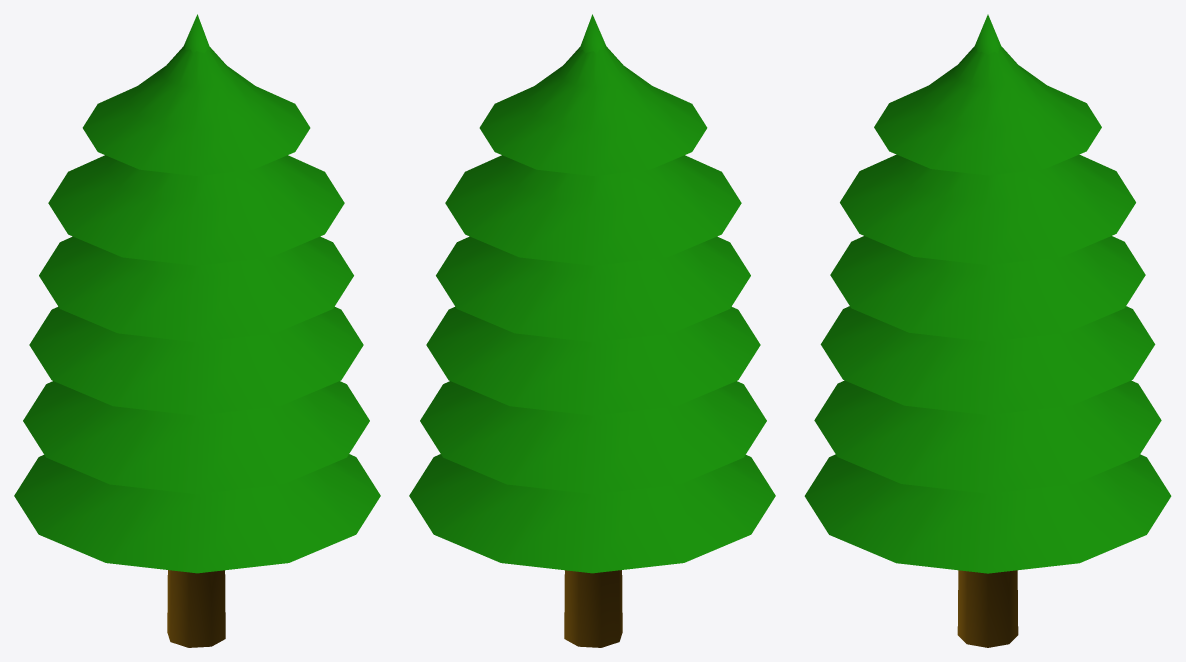
Rendered from Tree.obj.
The picture shows the model from 3 angles, left to right: view 1: azimuth 30°, elevation 25°; view 2: azimuth 150°, elevation 25°; view 3: azimuth 270°, elevation 25°; orthographic projection.
Visible parts, largest first — view 1: Tree_Cylinder; view 2: Tree_Cylinder; view 3: Tree_Cylinder.
Part boxes in pixels (bbox=[...]): Tree_Cylinder: bbox=[14, 14, 380, 647]; Tree_Cylinder: bbox=[409, 14, 775, 647]; Tree_Cylinder: bbox=[804, 14, 1171, 647].
Size of the model in its own units: 7.28 by 13.61 by 7.28.
Materials: 2 (2 with a texture image).
